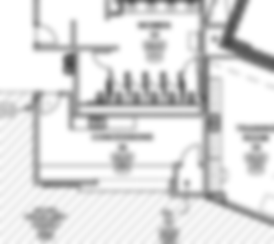door: (33, 24, 60, 45), (179, 142, 202, 166), (39, 92, 62, 115), (91, 50, 113, 69), (164, 70, 181, 89), (183, 57, 200, 76), (146, 69, 162, 88), (111, 70, 127, 89), (129, 71, 145, 88)
wall: (67, 111, 203, 118), (31, 43, 120, 53), (33, 90, 41, 188), (78, 102, 202, 108), (199, 1, 205, 118), (202, 113, 210, 199), (203, 54, 213, 117), (32, 179, 99, 186), (167, 191, 227, 198), (73, 49, 78, 119), (204, 20, 232, 30), (68, 19, 77, 48), (32, 1, 42, 27), (205, 53, 240, 60), (168, 177, 176, 200), (102, 1, 110, 23)
